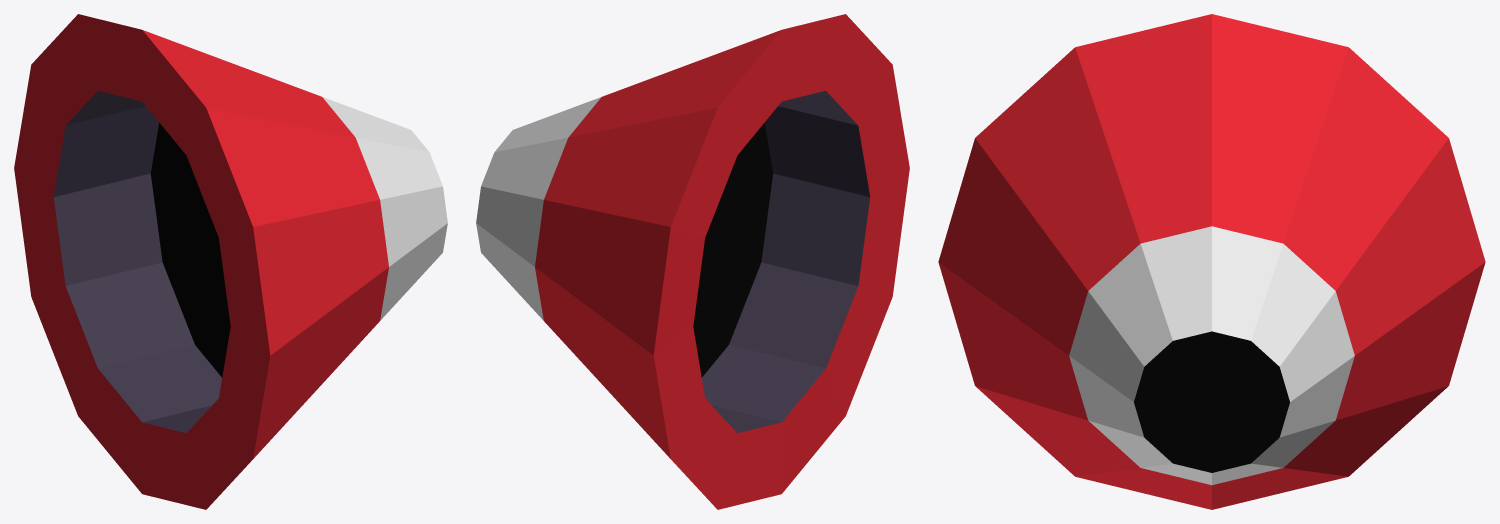
The model's file is rocket Booster Side.fbx.
The picture shows the model from 3 angles, left to right: view 1: azimuth 30°, elevation 25°; view 2: azimuth 150°, elevation 25°; view 3: azimuth 270°, elevation 25°; orthographic projection. The views are drawn at different scales.
Parts seen in each view (by area): view 1: Booster Side; view 2: Booster Side; view 3: Booster Side.
Boxes of the visible parts, <box> form: Booster Side: <box>14,14,447,509</box>; Booster Side: <box>476,14,909,509</box>; Booster Side: <box>938,14,1485,509</box>.
Bounding box in the file's own units: 42.32 × 69.79 × 69.79.
